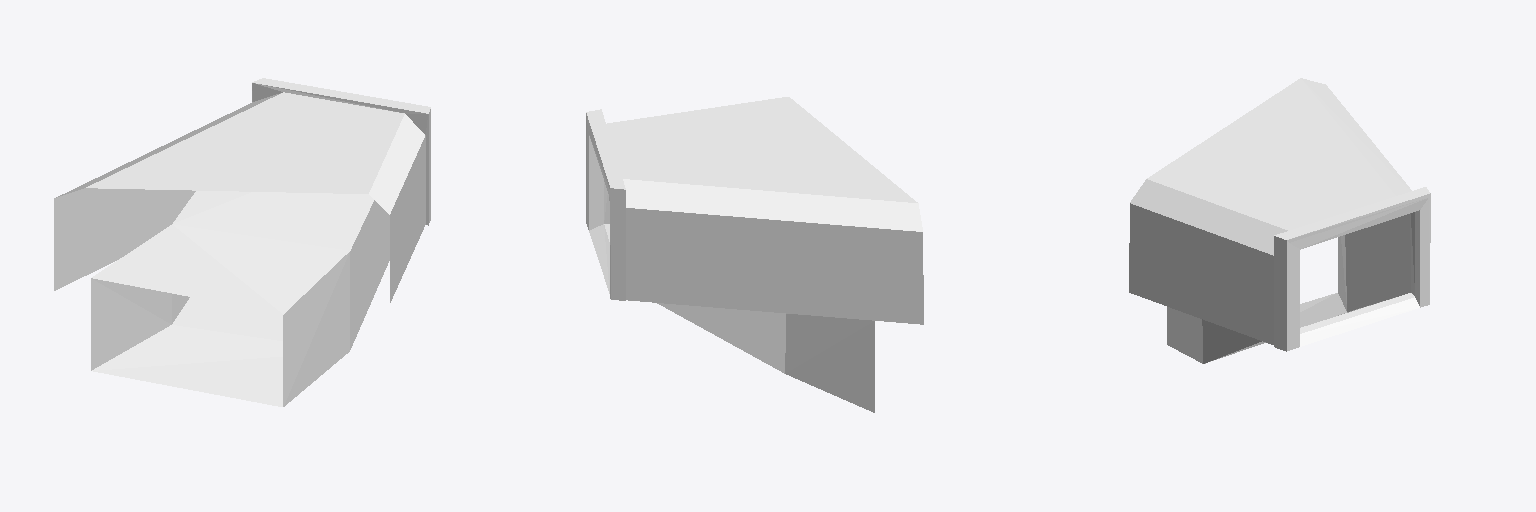
Rendered from Cave Entrenc 1.obj.
The picture shows the model from 3 angles: view 1: azimuth 30°, elevation 25°; view 2: azimuth 150°, elevation 25°; view 3: azimuth 270°, elevation 25°; orthographic projection.
Visible parts, largest first — view 1: Sprite; view 2: Sprite; view 3: Sprite.
Part boxes in pixels (x1,y1,x2,y2): Sprite: (54,78,430,406); Sprite: (586,97,923,412); Sprite: (1129,78,1430,363).
Bounding box in the file's own units: 9.12 × 5.03 × 6.66.